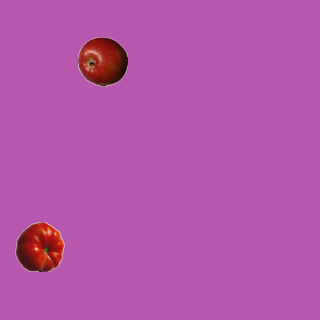Apple Braeburn: (77, 36, 127, 86)
Tomato 3: (14, 221, 64, 271)
